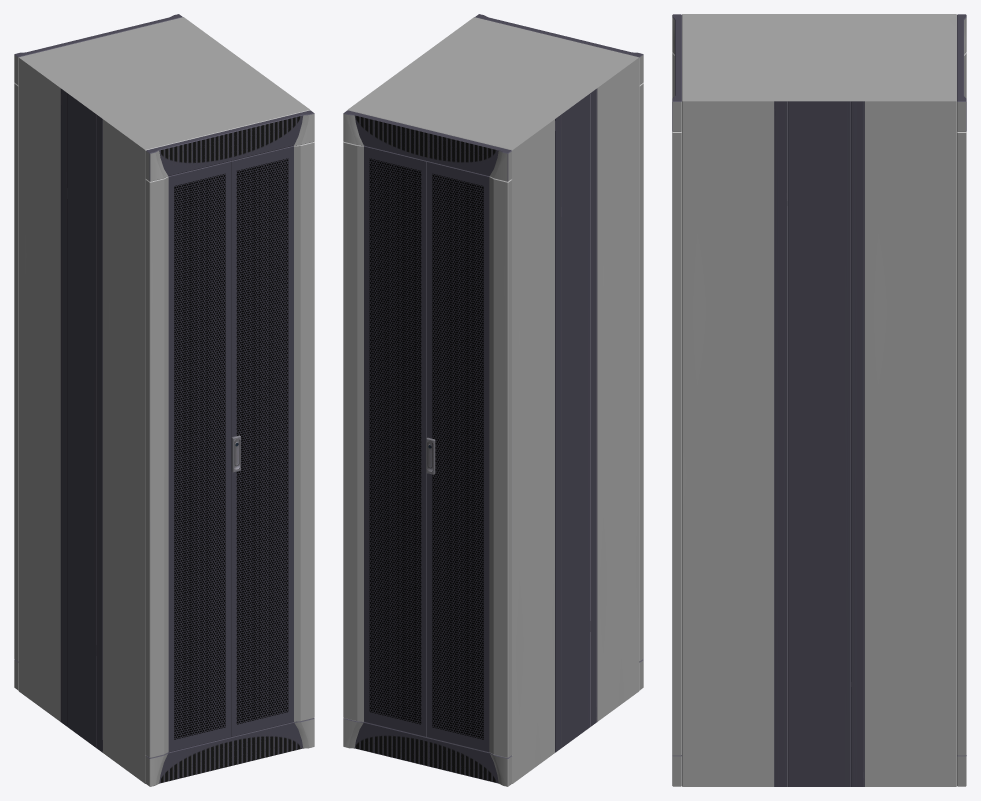
3 views of the same model, side by side, from view 1: azimuth 30°, elevation 25°; view 2: azimuth 150°, elevation 25°; view 3: azimuth 270°, elevation 25° (orthographic). The views are drawn at different scales.
Parts seen in each view (by area): view 1: Lo-BODY_01; view 2: Lo-BODY_01; view 3: Lo-BODY_01.
Part boxes in pixels (left/top/right/bottom): Lo-BODY_01: left=14, top=14, right=314, bottom=786; Lo-BODY_01: left=343, top=14, right=643, bottom=786; Lo-BODY_01: left=672, top=14, right=966, bottom=786.
Bounding box in the file's own units: 0.6 × 2.2 × 0.8558.
1 material, 1 textured.
